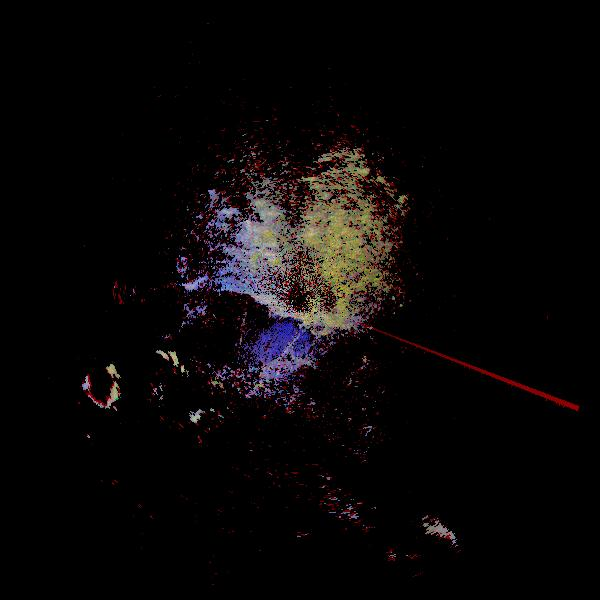roost: (392, 506, 476, 590), (69, 352, 138, 421), (132, 339, 198, 405)
